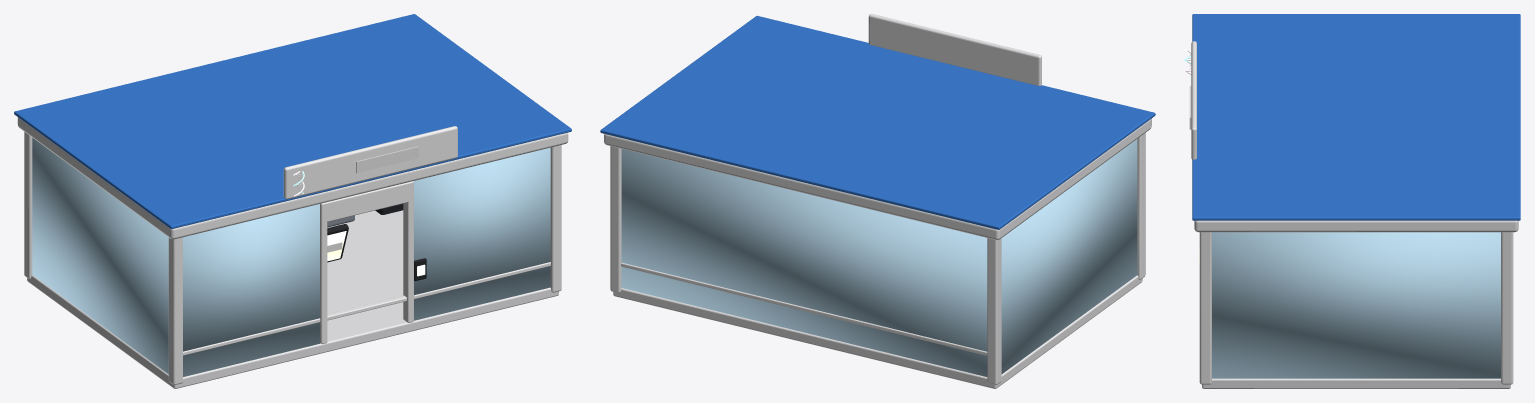
Rendered from Lab.fbx.
3 views of the same model, side by side, from view 1: azimuth 30°, elevation 25°; view 2: azimuth 150°, elevation 25°; view 3: azimuth 270°, elevation 25° (orthographic). The views are drawn at different scales.
Visible parts, largest first — view 1: Body__Blue, Body__Glass~2, Body__Glass~4, Body__Glass~5, Body__White, Body__Marble, Body__White~2, Body__Blue!1, Body__Black; view 2: Body__Blue, Body__Glass, Body__Glass~2, Body__White, Body__White~2, Body__Marble; view 3: Body__Blue, Body__Glass~3, Body__White, Body__White~2, Body__Marble.
Boxes of the visible parts, x1,y1,x2,y2 form: Body__Blue: [14, 14, 571, 229]; Body__Glass~2: [32, 138, 168, 373]; Body__Glass~4: [183, 204, 319, 376]; Body__Glass~5: [413, 147, 550, 320]; Body__White: [24, 126, 561, 384]; Body__Marble: [27, 210, 558, 388]; Body__White~2: [17, 117, 568, 239]; Body__Blue!1: [356, 146, 418, 173]; Body__Black: [327, 203, 426, 281]; Body__Blue: [600, 15, 1155, 229]; Body__Glass: [621, 149, 987, 376]; Body__Glass~2: [1001, 139, 1137, 373]; Body__White: [610, 14, 1145, 384]; Body__White~2: [604, 118, 1151, 239]; Body__Marble: [613, 275, 1142, 388]; Body__Blue: [1192, 14, 1520, 220]; Body__Glass~3: [1212, 232, 1500, 378]; Body__White: [1185, 41, 1513, 384]; Body__White~2: [1194, 220, 1518, 232]; Body__Marble: [1202, 378, 1510, 388].
Bounding box in the file's own units: 12.5 × 6.42 × 8.71.
